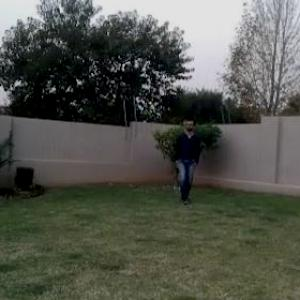follow: (172, 114, 200, 204)
